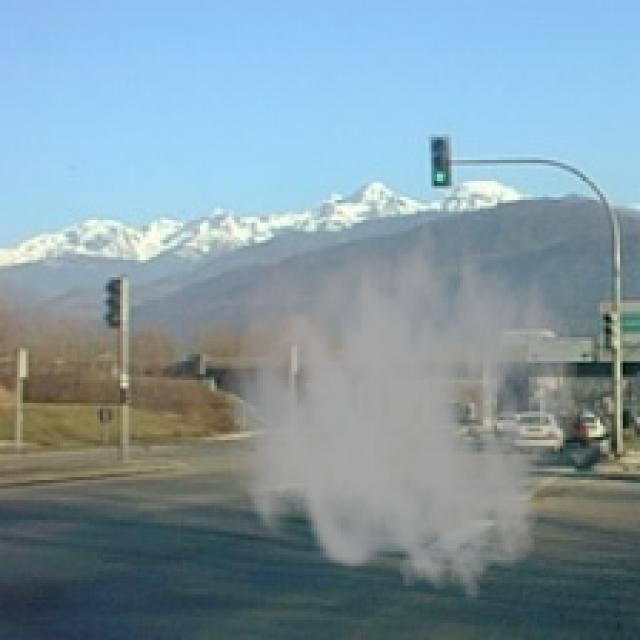Smoke: (223, 200, 580, 603)
